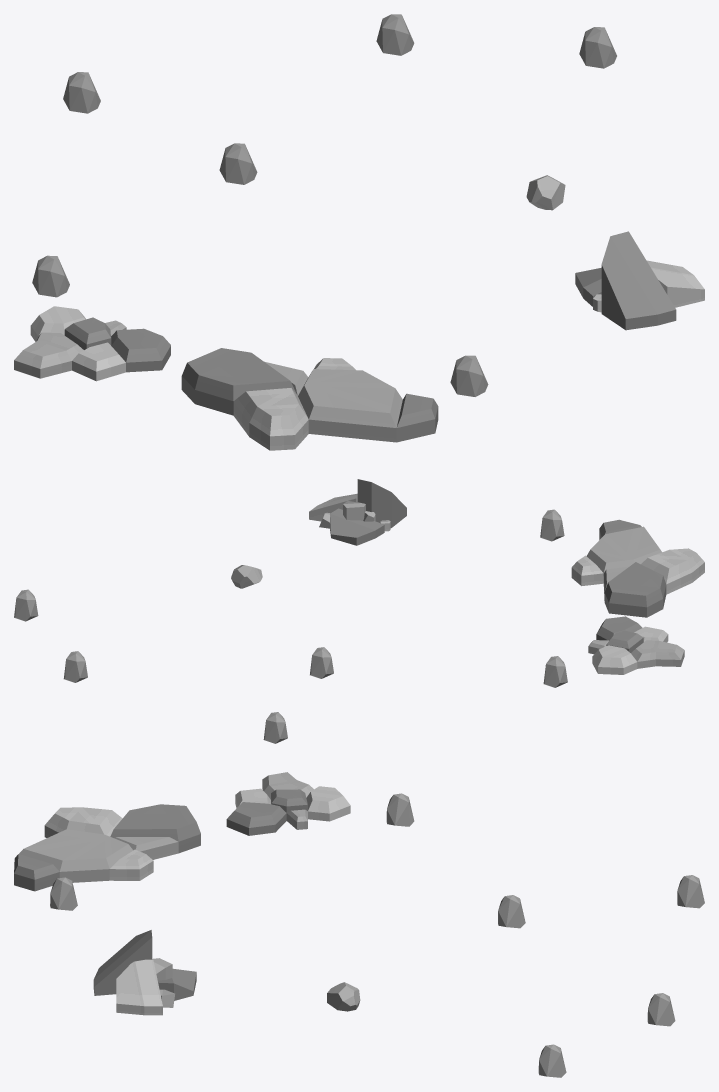
Rendered from Rocks.gltf.
The picture shows the model from 3 angles, top to bottom: view 1: azimuth 30°, elevation 25°; view 2: azimuth 150°, elevation 25°; view 3: azimuth 270°, elevation 25°; orthographic projection. The views are drawn at different scales.
Parts seen in each view (by area): view 1: Rock Type4 01, Rock Type4 02, Rock Type5 02, Rock_04 (4), Rock_04 (1), Rock_04 (2), Rock_04, Rock_04 (3), Rock_04 (5), Rock Type2 04; view 2: Rock Type4 01, Rock Type4 02, Rock Type5 02, Rock_04, Rock_04 (1), Rock_04 (3), Rock_04 (5), Rock_04 (4), Rock_04 (2), Rock Type2 04; view 3: Rock Type4 01, Rock Type5 02, Rock Type4 02, Rock Type2 04, Rock_04, Rock_04 (5), Rock_04 (4), Rock_04 (3), Rock_04 (2), Rock_04 (1).
Part boxes in pixels (<box>): Rock Type4 01: <box>181,348,438,450</box>; Rock Type4 02: <box>14,306,170,381</box>; Rock Type5 02: <box>575,231,704,330</box>; Rock_04 (4): <box>376,14,414,55</box>; Rock_04 (1): <box>450,355,488,396</box>; Rock_04 (2): <box>219,143,257,184</box>; Rock_04: <box>32,255,69,297</box>; Rock_04 (3): <box>63,72,100,113</box>; Rock_04 (5): <box>579,27,616,68</box>; Rock Type2 04: <box>526,175,565,210</box>; Rock Type4 01: <box>571,519,704,617</box>; Rock Type4 02: <box>588,616,684,674</box>; Rock Type5 02: <box>309,479,406,545</box>; Rock_04: <box>543,656,567,687</box>; Rock_04 (1): <box>540,509,564,541</box>; Rock_04 (3): <box>263,712,287,743</box>; Rock_04 (5): <box>14,589,38,621</box>; Rock_04 (4): <box>63,651,87,682</box>; Rock_04 (2): <box>310,647,333,678</box>; Rock Type2 04: <box>231,565,262,588</box>; Rock Type4 01: <box>14,804,200,891</box>; Rock Type5 02: <box>93,930,196,1015</box>; Rock Type4 02: <box>226,772,350,835</box>; Rock Type2 04: <box>327,982,360,1011</box>; Rock_04: <box>386,793,414,826</box>; Rock_04 (5): <box>538,1044,566,1077</box>; Rock_04 (4): <box>647,993,675,1026</box>; Rock_04 (3): <box>677,875,704,908</box>; Rock_04 (2): <box>498,895,525,928</box>; Rock_04 (1): <box>50,877,77,910</box>.
Size of the model in its own units: 0.4491 by 0.0405 by 0.4331.
Materials: 2 (2 with a texture image).
